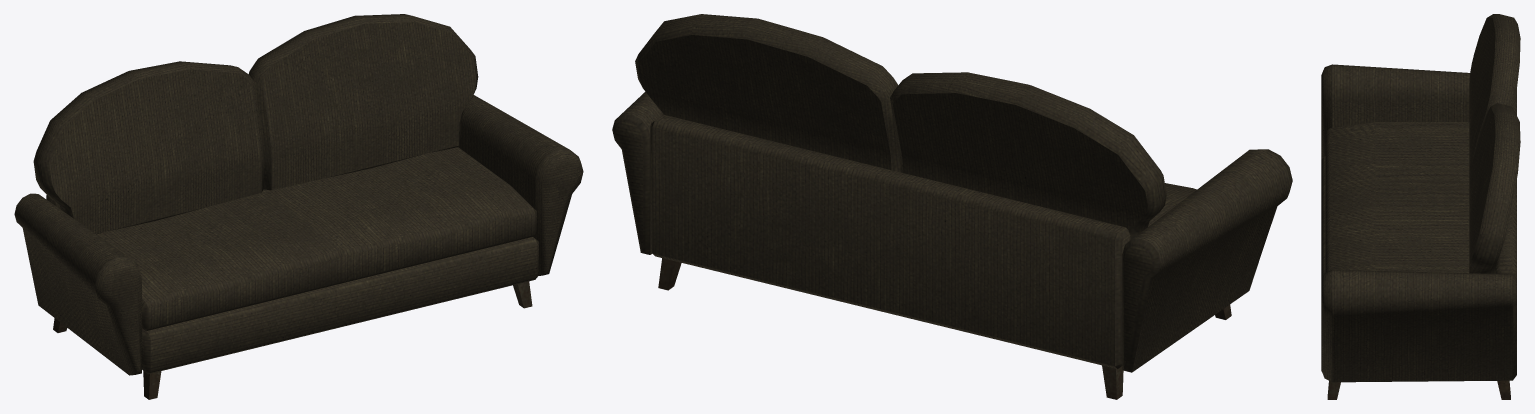
Rendered from sofa_2_1.obj.
3 views of the same model, side by side, from view 1: azimuth 30°, elevation 25°; view 2: azimuth 150°, elevation 25°; view 3: azimuth 270°, elevation 25° (orthographic). The views are drawn at different scales.
Visible parts, largest first — view 1: sofa_2_1; view 2: sofa_2_1; view 3: sofa_2_1.
Part boxes in pixels (x1,y1,x2,y2): sofa_2_1: (14,14,583,399); sofa_2_1: (612,14,1292,399); sofa_2_1: (1321,14,1520,399).
Bounding box in the file's own units: 2.47 × 1.17 × 0.9157.
